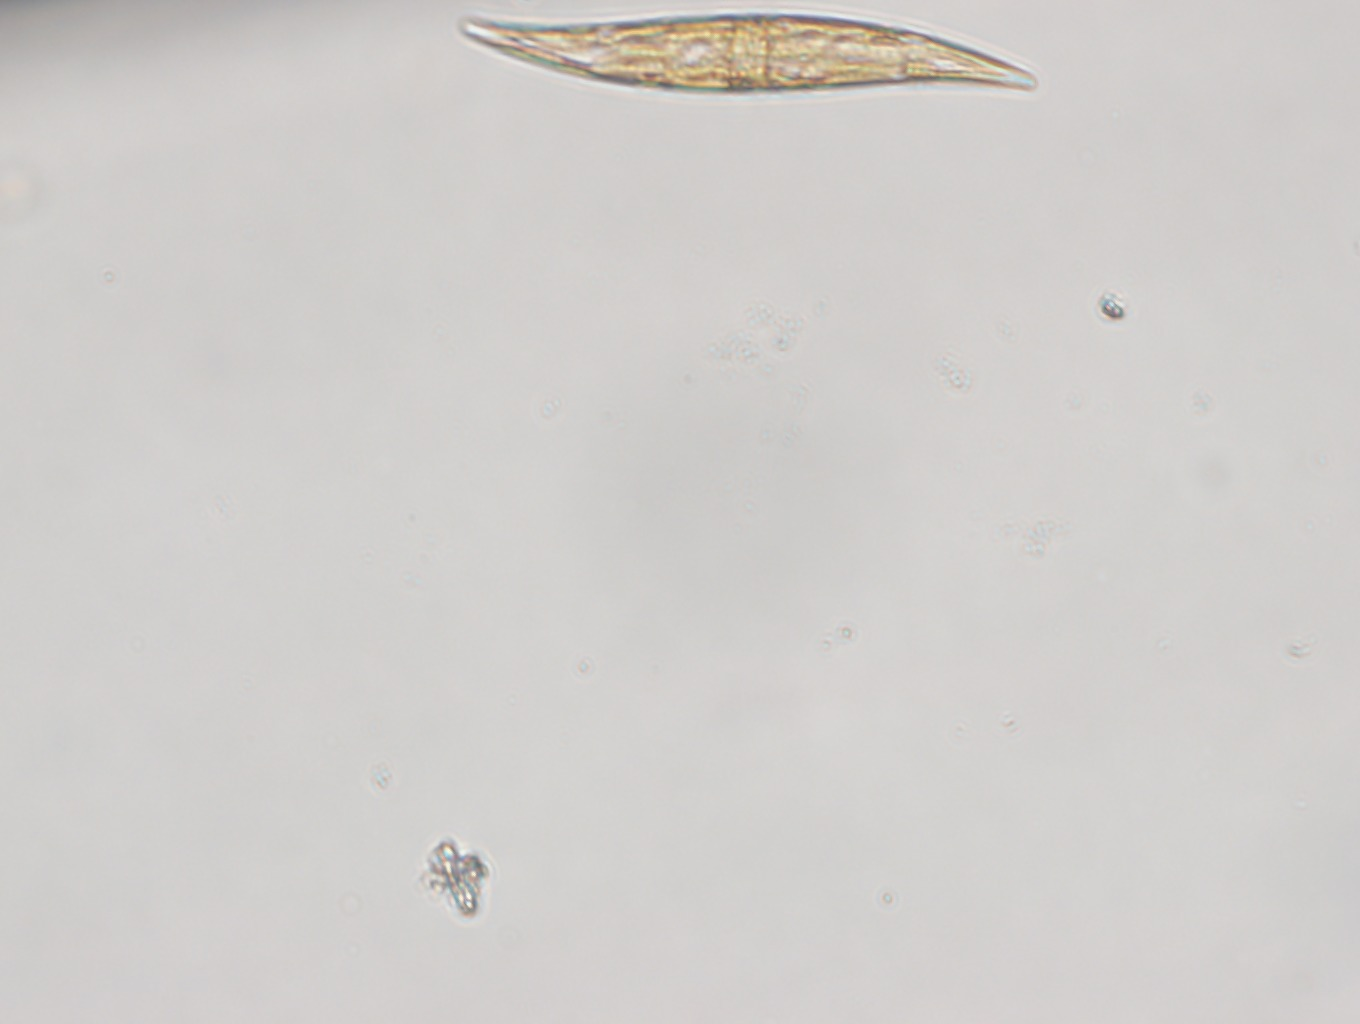pleurosigma pelagicum: (450, 1, 1057, 103)
